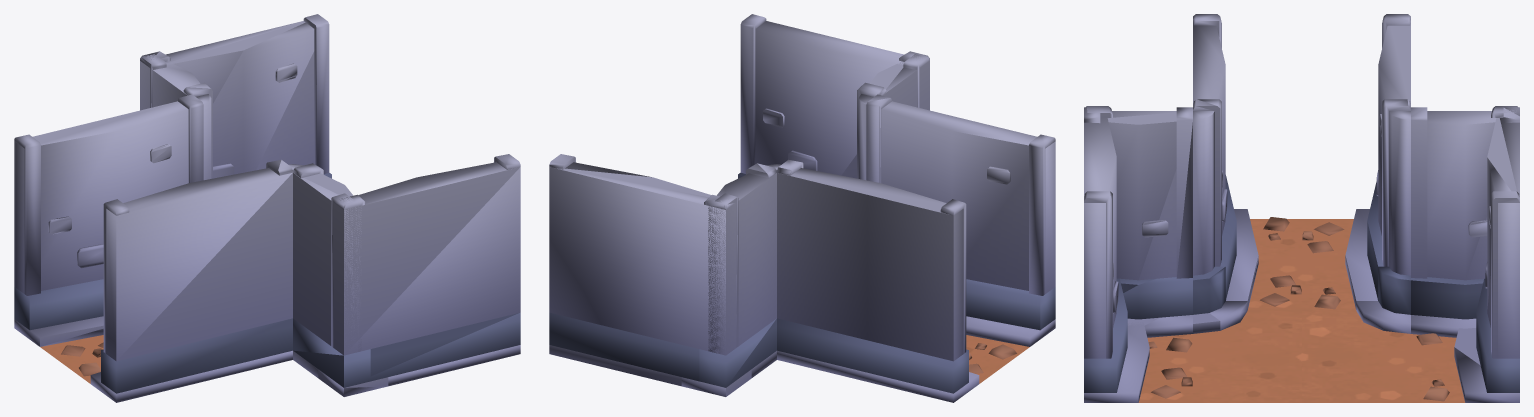
The model's file is corridor-transition.fbx.
3 renders of one model, left to right at view 1: azimuth 30°, elevation 25°; view 2: azimuth 150°, elevation 25°; view 3: azimuth 270°, elevation 25°, orthographic. The views are drawn at different scales.
Visible parts, largest first — view 1: corridor-transition; view 2: corridor-transition; view 3: corridor-transition.
Part boxes in pixels (x1,y1,x2,y2): corridor-transition: (14, 14, 520, 402); corridor-transition: (549, 14, 1055, 402); corridor-transition: (1084, 14, 1519, 402).
Bounding box in the file's own units: 800 × 415 × 800.
